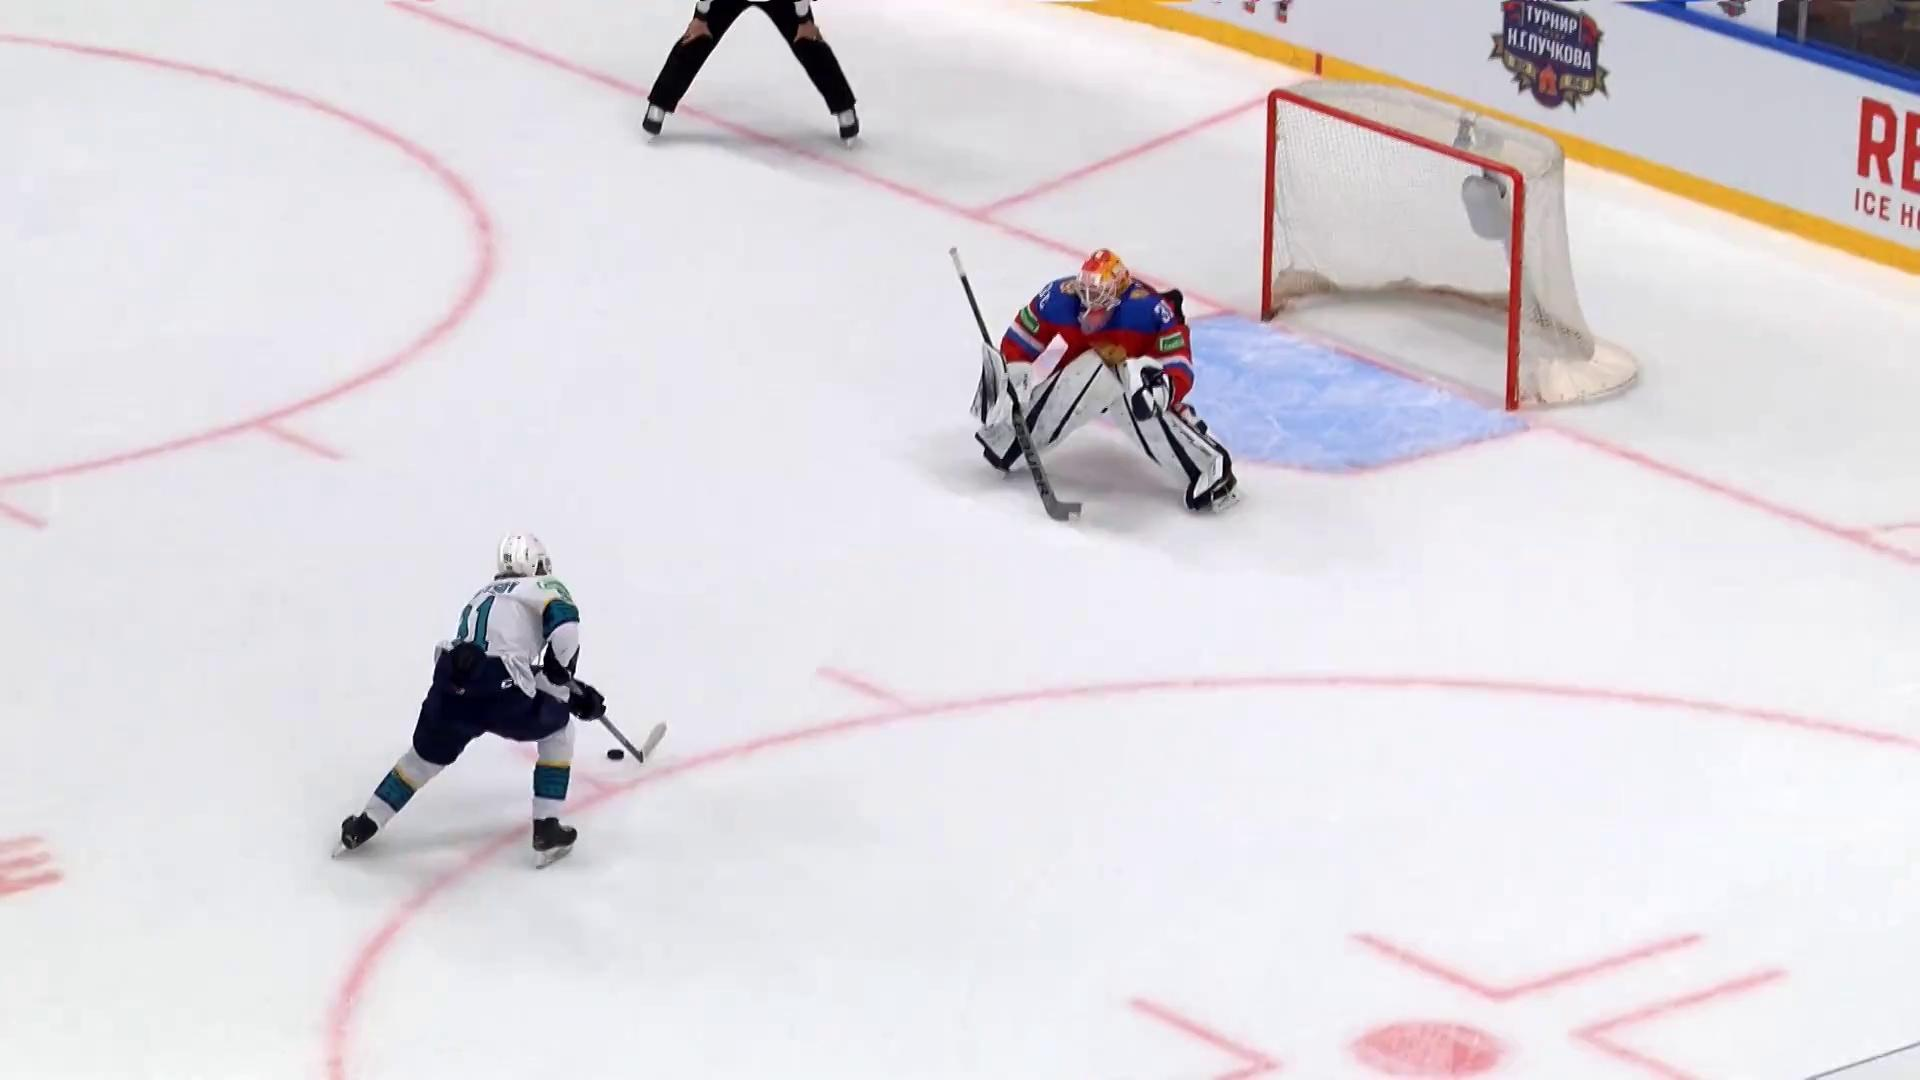ball: (608, 750, 624, 762)
